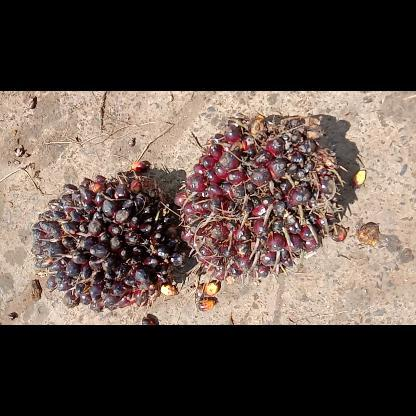Kurang masak: (171, 110, 348, 282), (29, 158, 185, 312)
